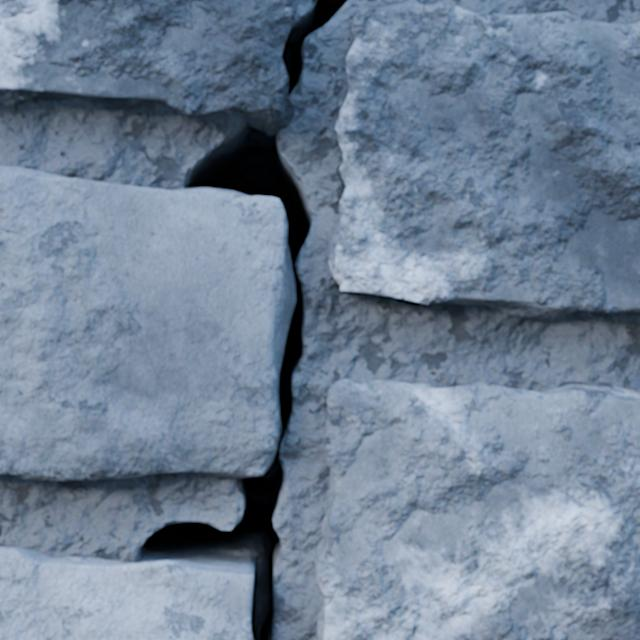crack: (0, 0, 346, 639), (327, 0, 639, 318), (315, 379, 639, 639)
